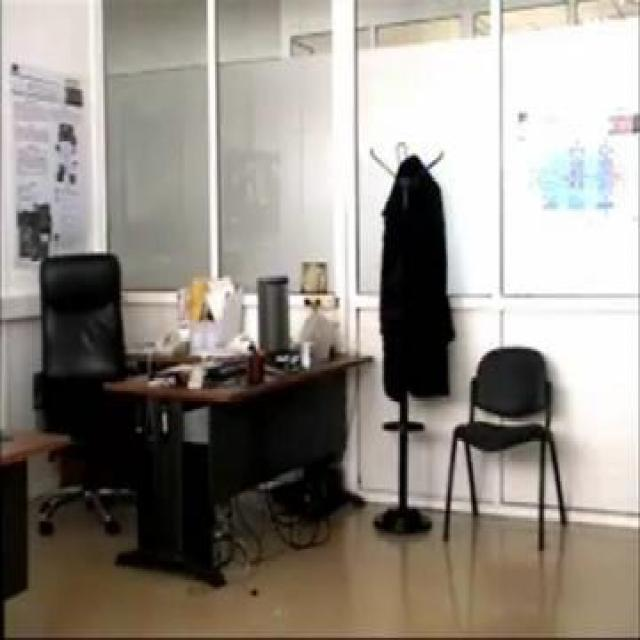other: (361, 56, 464, 134), (175, 258, 224, 334)
